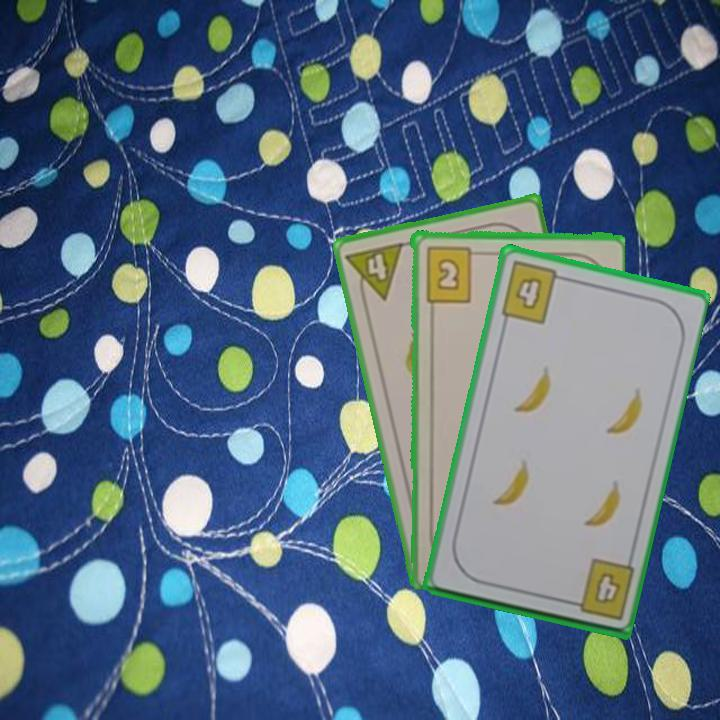2b: (421, 243, 483, 304)
4b: (562, 555, 637, 623), (497, 257, 569, 327)
4p: (342, 238, 407, 307)
